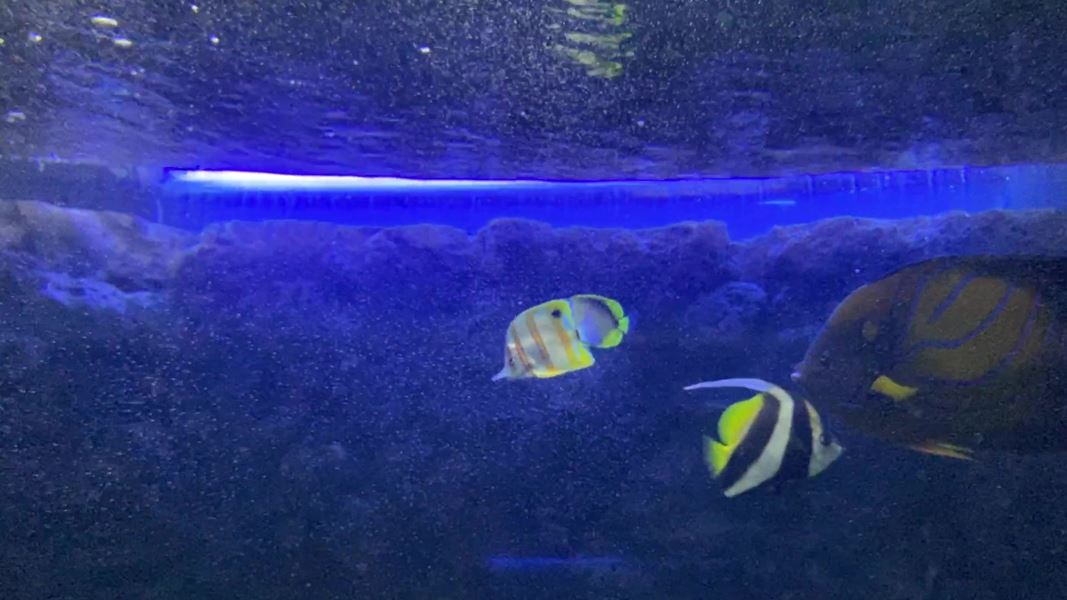Black-backed butterflyfish: (554, 288, 646, 358)
